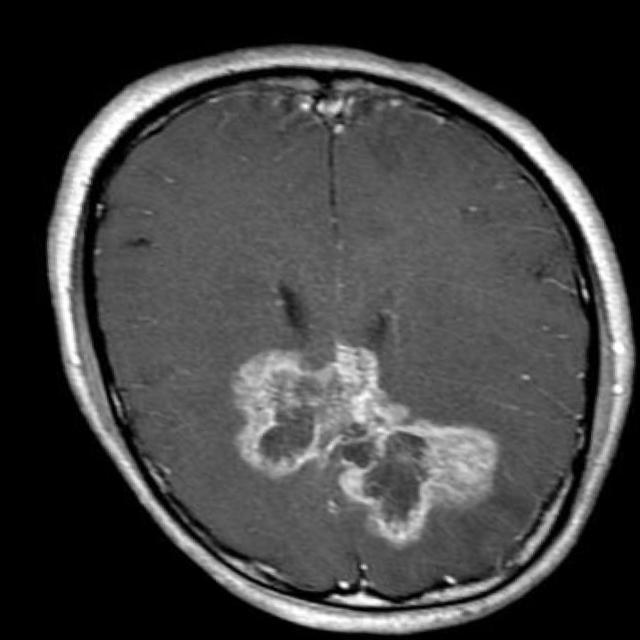Tumor: (226, 343, 500, 541)
